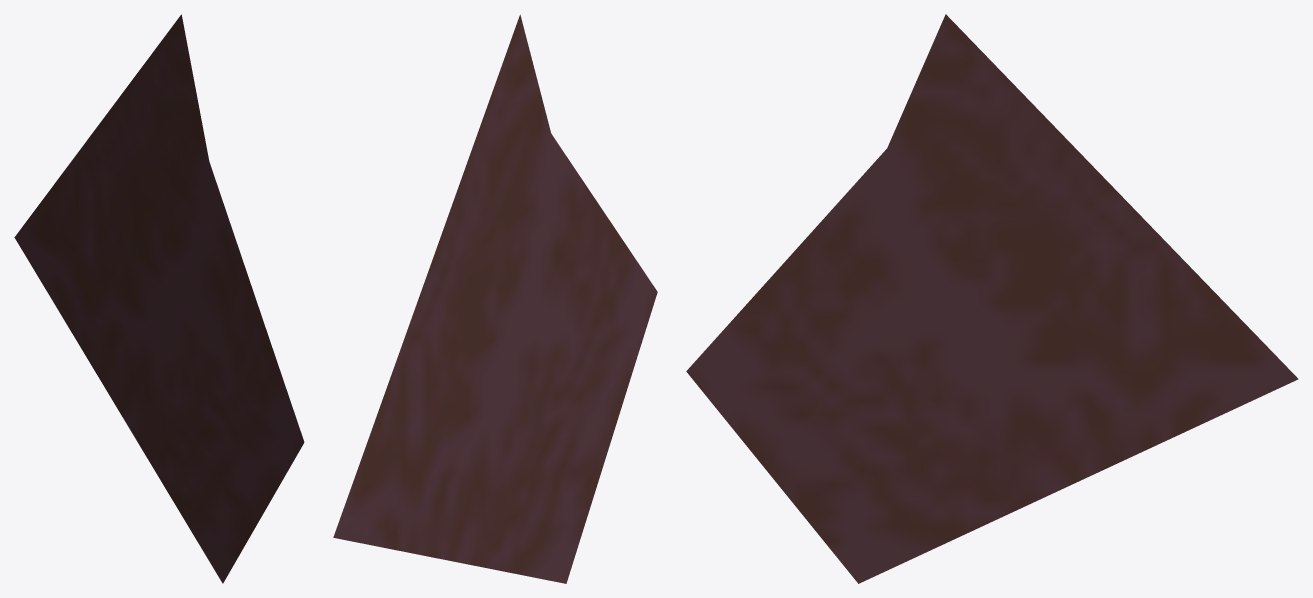
File: Past_BrokenWall10.fbx
3 renders of one model, left to right at view 1: azimuth 30°, elevation 25°; view 2: azimuth 150°, elevation 25°; view 3: azimuth 270°, elevation 25°, orthographic. The views are drawn at different scales.
Visible parts, largest first — view 1: polySurface405; view 2: polySurface405; view 3: polySurface405.
Boxes of the visible parts, box(x1,y1,x2,y2) form: polySurface405: box(14, 14, 304, 583); polySurface405: box(333, 14, 657, 583); polySurface405: box(686, 14, 1298, 583).
Bounding box in the file's own units: 6.1e-05 × 99.47 × 96.9.
Materials: 1 (1 with a texture image).
